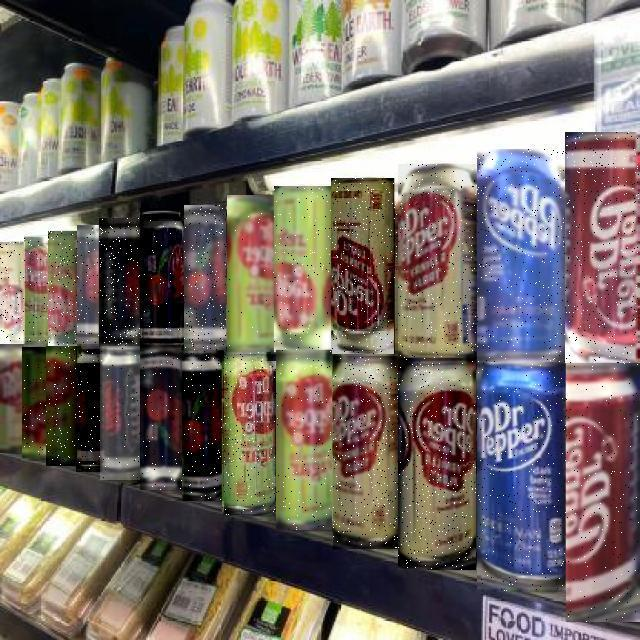Drinks: (477, 364, 568, 592), (566, 363, 640, 622), (477, 150, 565, 366), (566, 132, 640, 366), (398, 358, 476, 570), (398, 164, 476, 361), (333, 356, 398, 549), (332, 178, 398, 354), (276, 350, 332, 530), (274, 186, 332, 352), (222, 352, 276, 516), (227, 195, 275, 354), (182, 348, 224, 501), (140, 209, 185, 349), (185, 205, 227, 350), (140, 345, 182, 490), (99, 218, 141, 347), (100, 346, 140, 480), (46, 346, 77, 466), (48, 231, 77, 346), (76, 346, 102, 472), (77, 226, 100, 346), (22, 347, 46, 458), (24, 236, 48, 346), (0, 242, 25, 344), (0, 344, 22, 453)
